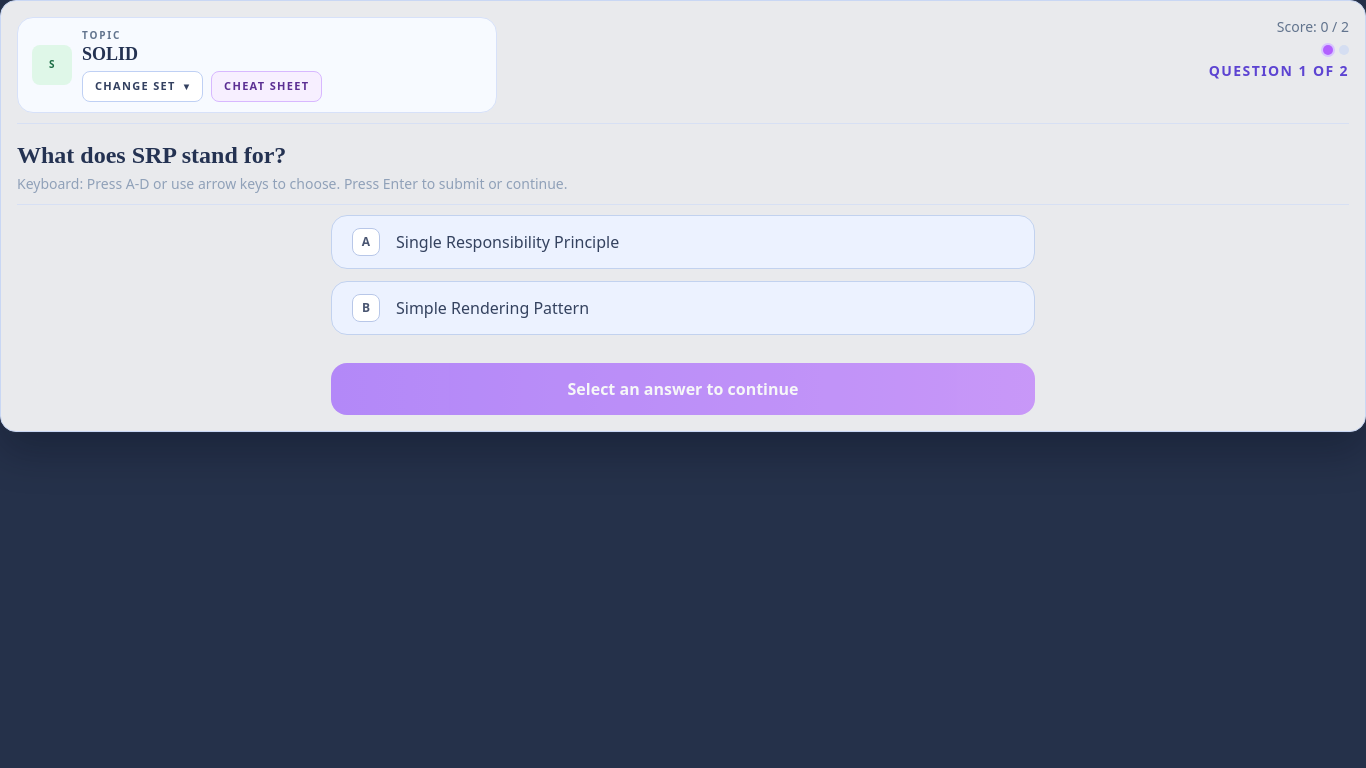
Test: Quiz component › shows answer and explanation for the current question in cheat sheet
The image size is (1366, 768).
Expected: the heading "What does SRP stand for?" is shown, [17, 142, 286, 168]
Click the button "Cheat Sheet" at (267,86), box [211, 71, 322, 102]
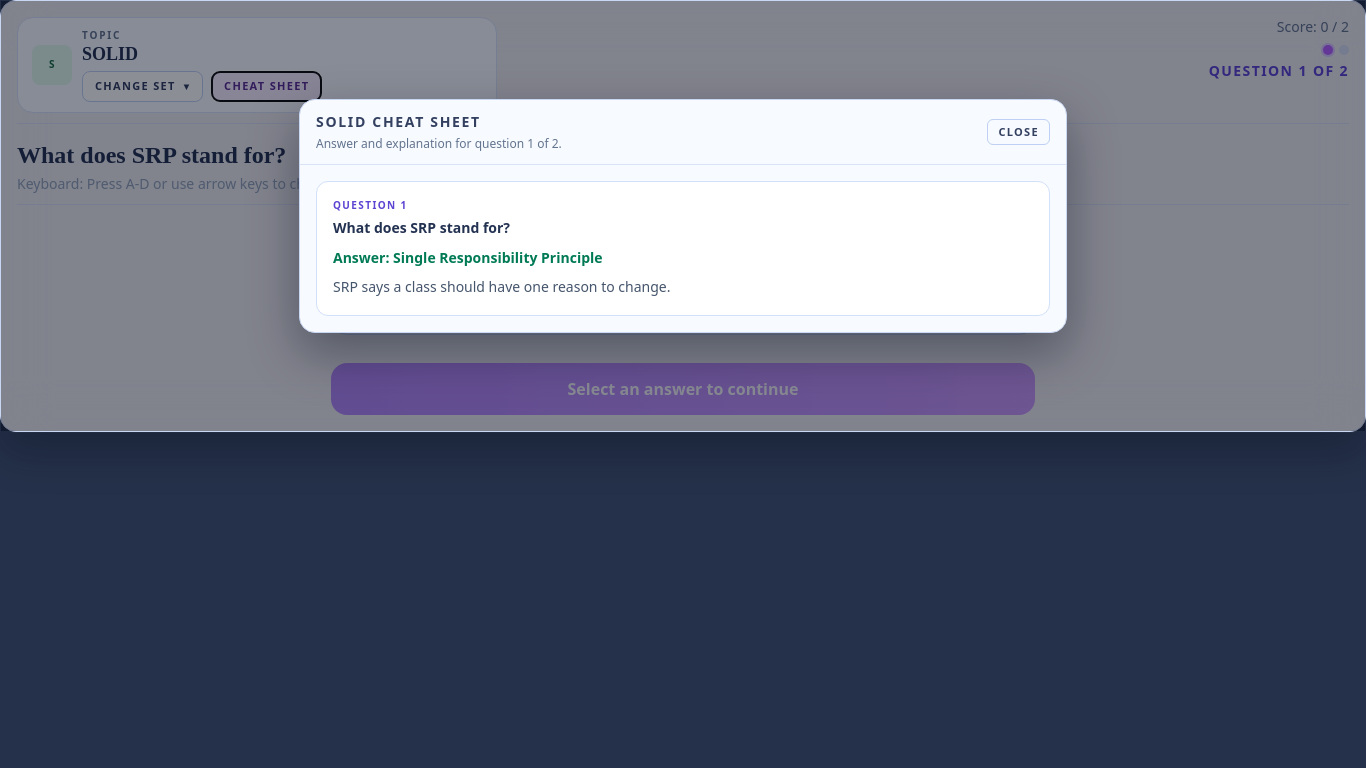
Expected: the text "Answer: Single Responsibility Principle" is shown, [333, 248, 603, 267]
Expected: the text "SRP says a class should have one reason to change." is shown, [333, 277, 670, 296]
